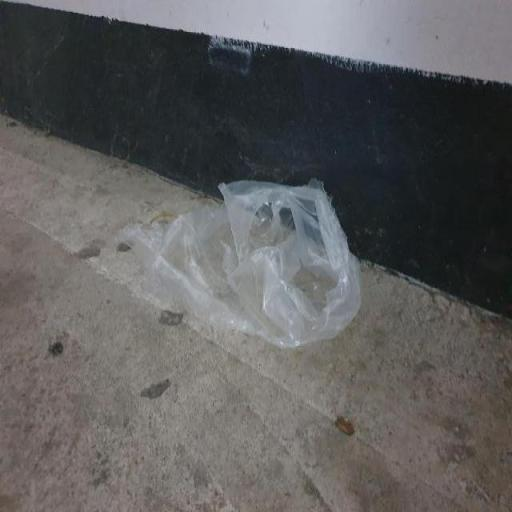plastic-bag: (116, 172, 363, 350)
